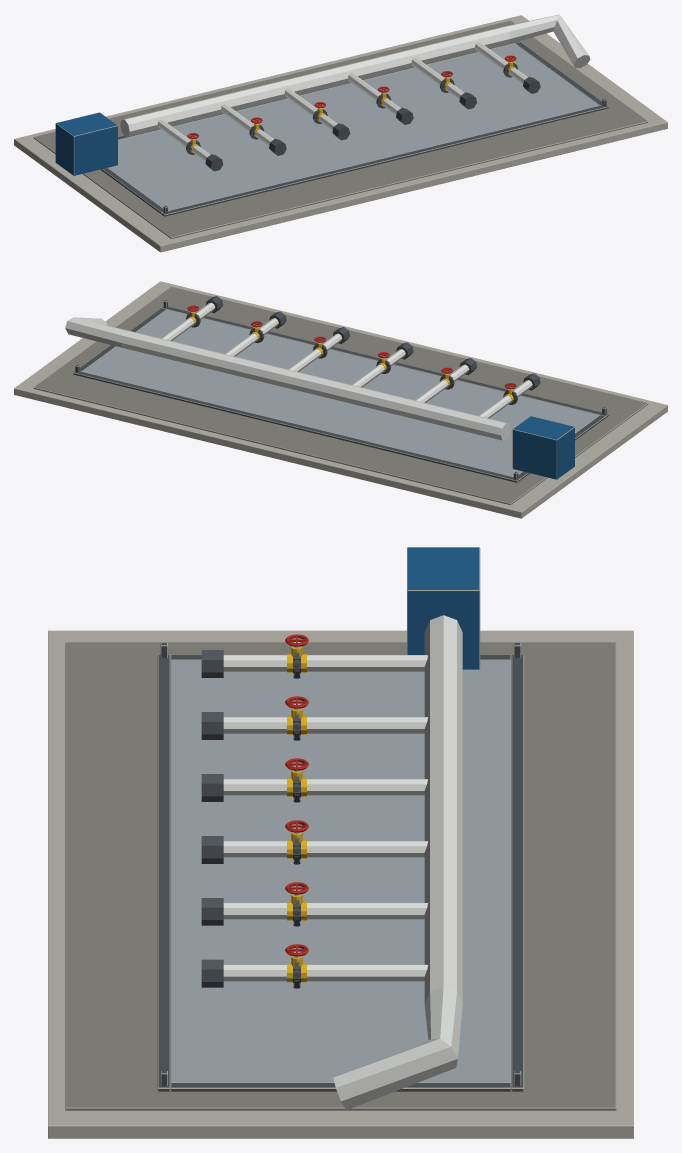
File: on_gathering_manifold.glb
3 renders of one model, top to bottom at view 1: azimuth 30°, elevation 25°; view 2: azimuth 150°, elevation 25°; view 3: azimuth 270°, elevation 25°, orthographic. The views are drawn at different scales.
Parts seen in each view (by area): view 1: on_gathering_manifold; view 2: on_gathering_manifold; view 3: on_gathering_manifold.
Part boxes in pixels (x1,y1,x2,y2): on_gathering_manifold: [14, 14, 667, 252]; on_gathering_manifold: [14, 281, 667, 518]; on_gathering_manifold: [48, 547, 633, 1138].
Bounding box in the file's own units: 16 × 1.5 × 8.
